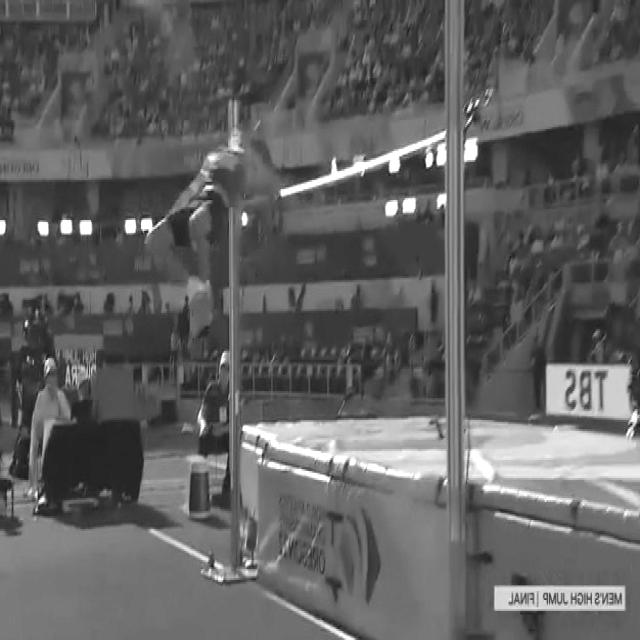jump: (144, 125, 302, 332)
